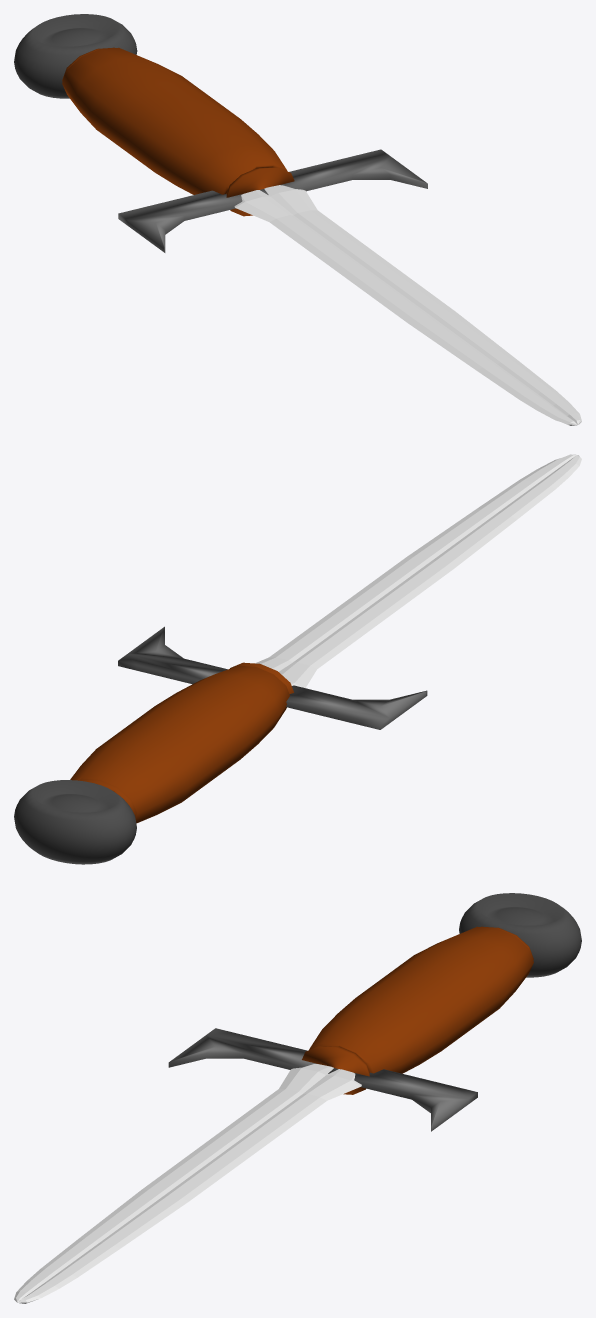
The model's file is dagger.fbx.
3 renders of one model, top to bottom at view 1: azimuth 30°, elevation 25°; view 2: azimuth 150°, elevation 25°; view 3: azimuth 330°, elevation 25°, orthographic.
Parts seen in each view (by area): view 1: Cylinder, Cylinder.002, Plane.001, Sphere.001; view 2: Cylinder, Cylinder.002, Sphere.001, Plane.001; view 3: Cylinder, Cylinder.002, Plane.001, Sphere.001.
Part boxes in pixels (x1,y1,x2,y2): Cylinder: [62, 47, 294, 216]; Cylinder.002: [234, 185, 581, 425]; Plane.001: [118, 149, 427, 252]; Sphere.001: [14, 14, 137, 98]; Cylinder: [70, 662, 293, 823]; Cylinder.002: [255, 454, 581, 687]; Sphere.001: [14, 780, 136, 864]; Plane.001: [118, 626, 427, 729]; Cylinder: [302, 926, 533, 1094]; Cylinder.002: [14, 1064, 361, 1303]; Plane.001: [168, 1028, 477, 1131]; Sphere.001: [459, 893, 581, 977].
Bounding box in the file's own units: 94.64 × 22.57 × 329.
